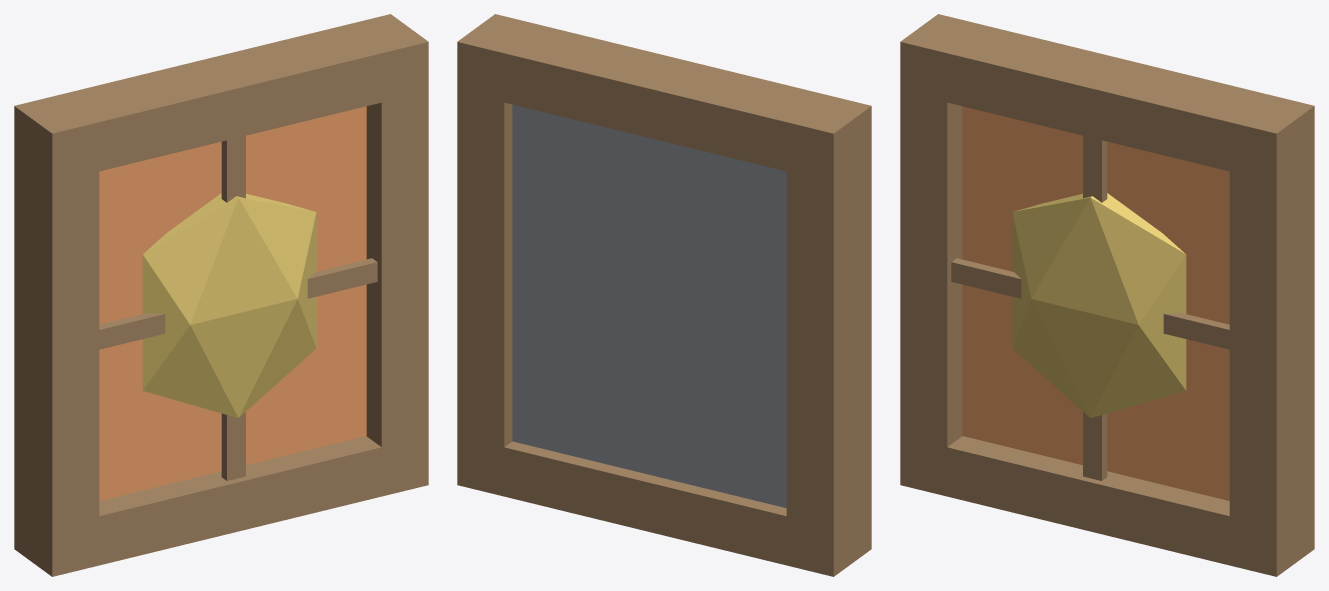
Rendered from animprop_window_03.glb.
3 views of the same model, side by side, from view 1: azimuth 30°, elevation 25°; view 2: azimuth 150°, elevation 25°; view 3: azimuth 330°, elevation 25° (orthographic).
Visible parts, largest first — view 1: animprop; view 2: animprop; view 3: animprop.
Boxes of the visible parts, x1,y1,x2,y2 form: animprop: (14,14,428,576); animprop: (457,14,871,576); animprop: (900,14,1314,576).
Bounding box in the file's own units: 0.8 × 0.9 × 0.1527.
